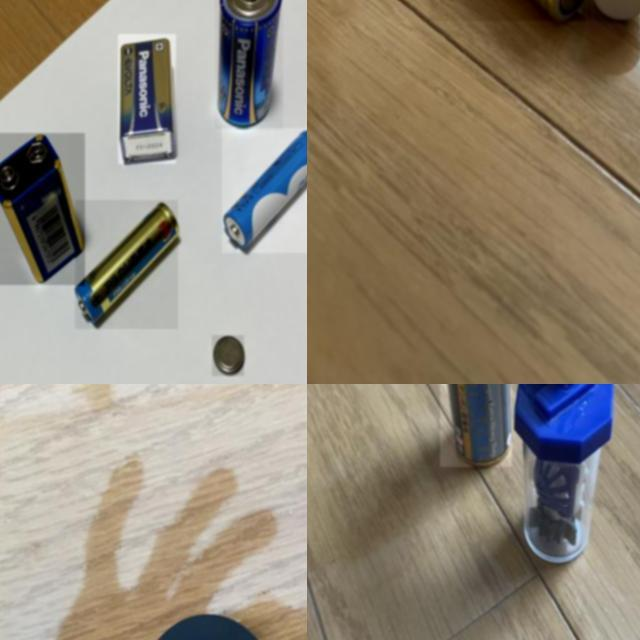9V: (0, 133, 85, 285), (119, 34, 177, 164)
